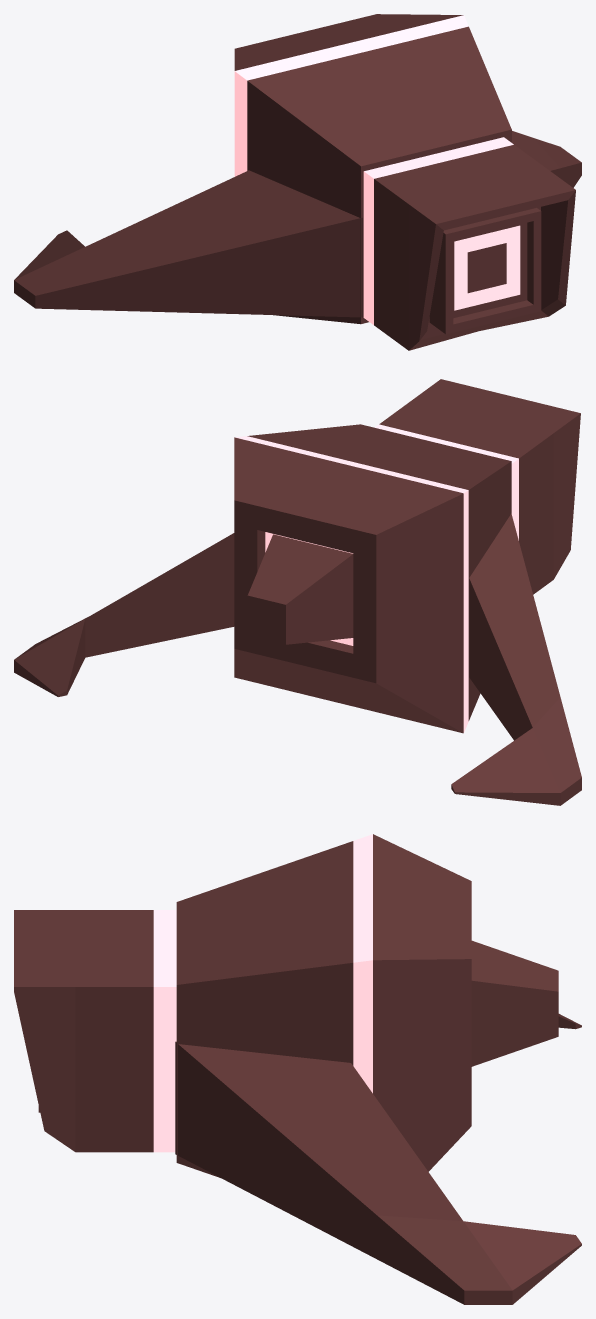
Rendered from enemyDrone.fbx.
3 renders of one model, top to bottom at view 1: azimuth 30°, elevation 25°; view 2: azimuth 150°, elevation 25°; view 3: azimuth 270°, elevation 25°, orthographic. The views are drawn at different scales.
Parts seen in each view (by area): view 1: Cube.002, Cube.004, Cube, Cube.001, Cube.003; view 2: Cube.002, Cube.004, Cube, Cube.003; view 3: Cube.002, Cube.003, Cube.
Part boxes in pixels (<box>): Cube.002: <box>234,14,511,324</box>; Cube.004: <box>14,170,362,317</box>; Cube: <box>363,137,575,350</box>; Cube.001: <box>429,208,541,334</box>; Cube.003: <box>512,131,581,187</box>; Cube.002: <box>234,424,511,733</box>; Cube.004: <box>451,513,581,805</box>; Cube: <box>375,379,580,594</box>; Cube.003: <box>14,533,234,696</box>; Cube.002: <box>176,834,558,1177</box>; Cube.003: <box>175,1041,581,1304</box>; Cube: <box>14,910,176,1152</box>.
Size of the model in its own units: 1144 by 480 by 914.
